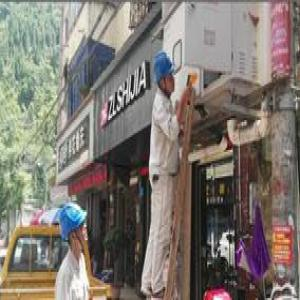blue: (59, 204, 89, 256), (153, 52, 178, 95)
